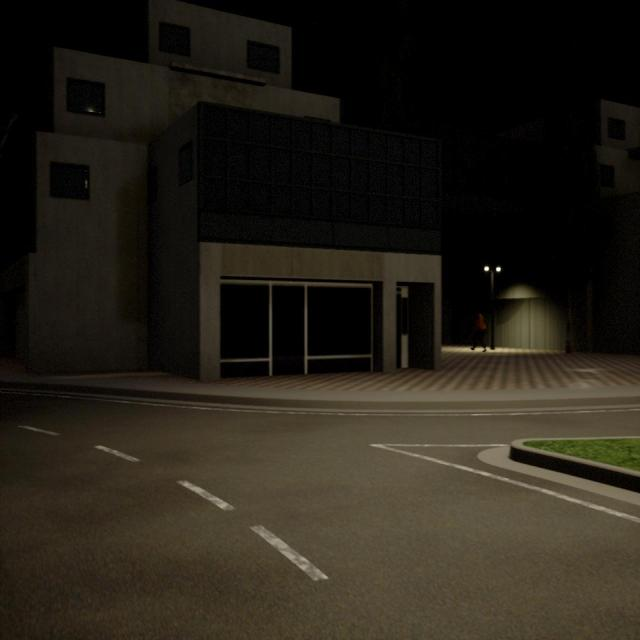Pedestrian: (472, 308, 486, 351)
